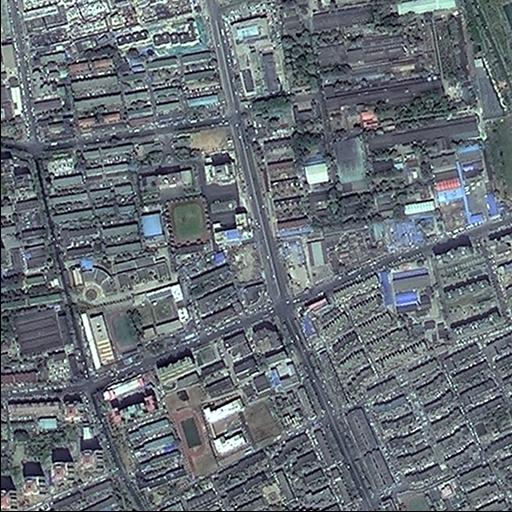school: (167, 390, 286, 478)
